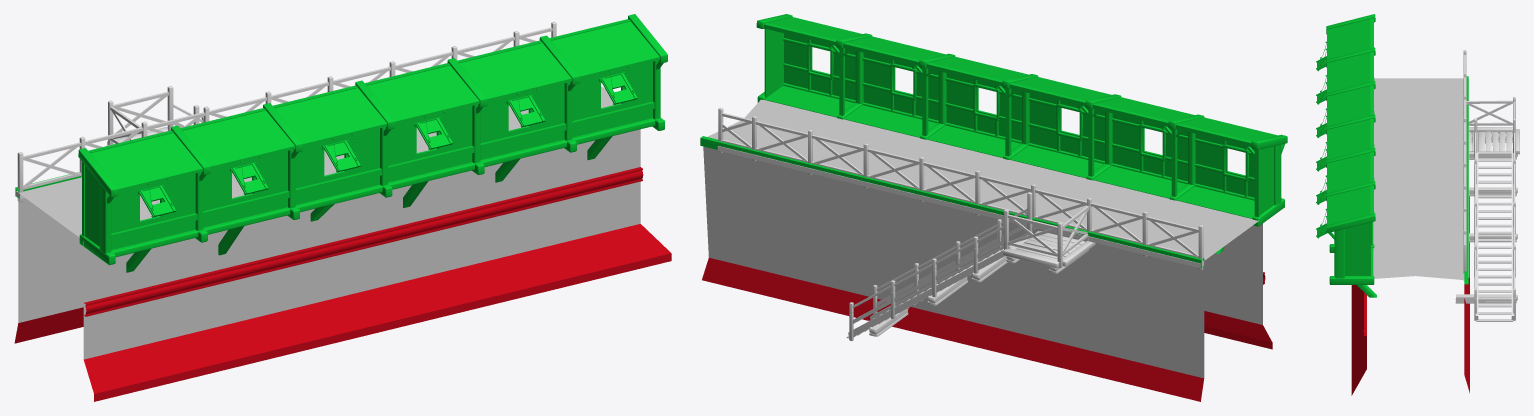
Rendered from Wall_3v2.fbx.
3 views of the same model, side by side, from view 1: azimuth 30°, elevation 25°; view 2: azimuth 150°, elevation 25°; view 3: azimuth 270°, elevation 25° (orthographic). The views are drawn at different scales.
Parts seen in each view (by area): view 1: Group_4.015, Group_4.028, Group_3.009, Group_3.005, Group_4.023, Group_4.027, Group_4.026, Group_4.024, Group_4.016, Group_4.025; view 2: Group_4.015, Group_4.028, Group_3.009, Group_3.005, Group_3.010; view 3: Group_4.015, Group_4.028, Group_3.005, Group_3.009.
Part boxes in pixels (x1=…): Group_4.015: x1=14, y1=86, x2=671, y2=401; Group_4.028: x1=78, y1=14, x2=667, y2=272; Group_3.009: x1=16, y1=21, x2=556, y2=202; Group_3.005: x1=106, y1=86, x2=203, y2=146; Group_4.023: x1=508, y1=95, x2=545, y2=127; Group_4.027: x1=139, y1=185, x2=176, y2=217; Group_4.026: x1=232, y1=163, x2=268, y2=194; Group_4.024: x1=416, y1=118, x2=452, y2=149; Group_4.016: x1=601, y1=73, x2=637, y2=104; Group_4.025: x1=324, y1=140, x2=360, y2=172; Group_4.015: x1=700, y1=99, x2=1272, y2=401; Group_4.028: x1=756, y1=14, x2=1287, y2=253; Group_3.009: x1=717, y1=107, x2=1203, y2=270; Group_3.005: x1=846, y1=192, x2=1095, y2=340; Group_3.010: x1=1033, y1=189, x2=1088, y2=240; Group_4.015: x1=1351, y1=76, x2=1469, y2=395; Group_4.028: x1=1326, y1=14, x2=1376, y2=297; Group_3.005: x1=1455, y1=97, x2=1519, y2=321; Group_3.009: x1=1463, y1=50, x2=1469, y2=280.
Bounding box in the file's own units: 1929 × 769 × 793.
